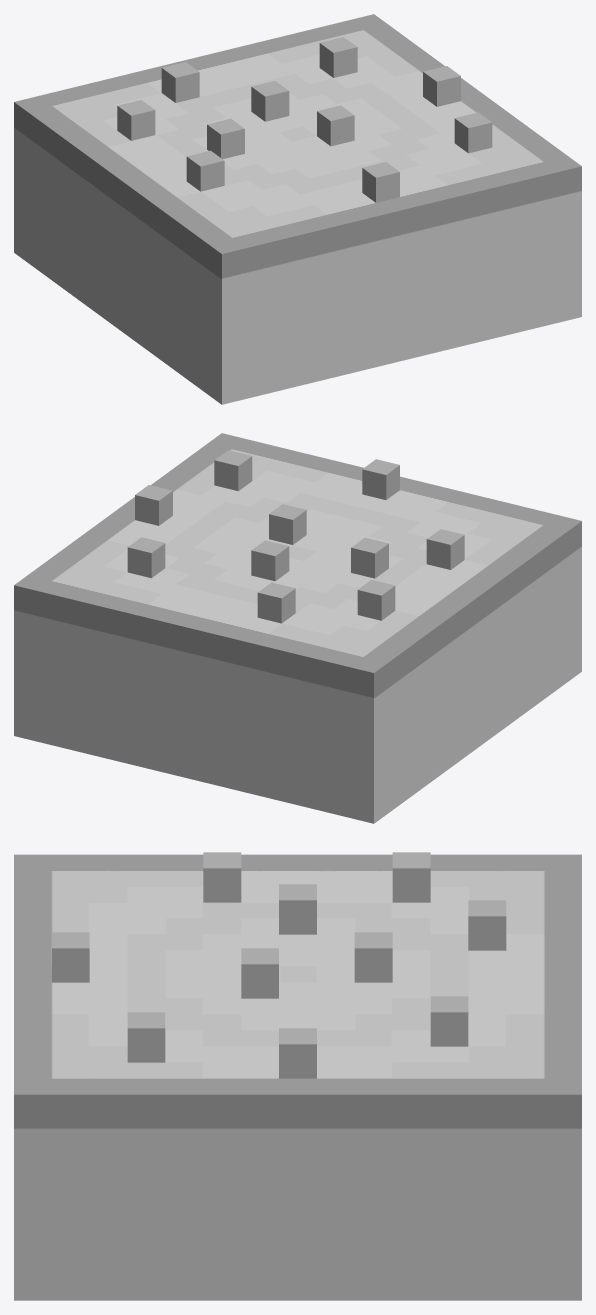
The model's file is LayerBonus4.fbx.
3 renders of one model, top to bottom at view 1: azimuth 30°, elevation 25°; view 2: azimuth 150°, elevation 25°; view 3: azimuth 270°, elevation 25°, orthographic. The views are drawn at different scales.
Visible parts, largest first — view 1: copy; view 2: copy; view 3: copy.
Part boxes in pixels (x1,y1,x2,y2): copy: [14, 14, 581, 404]; copy: [14, 433, 581, 823]; copy: [14, 852, 581, 1300].
Bounding box in the file's own units: 1.5 × 0.7 × 1.5.
1 material, 1 textured.
